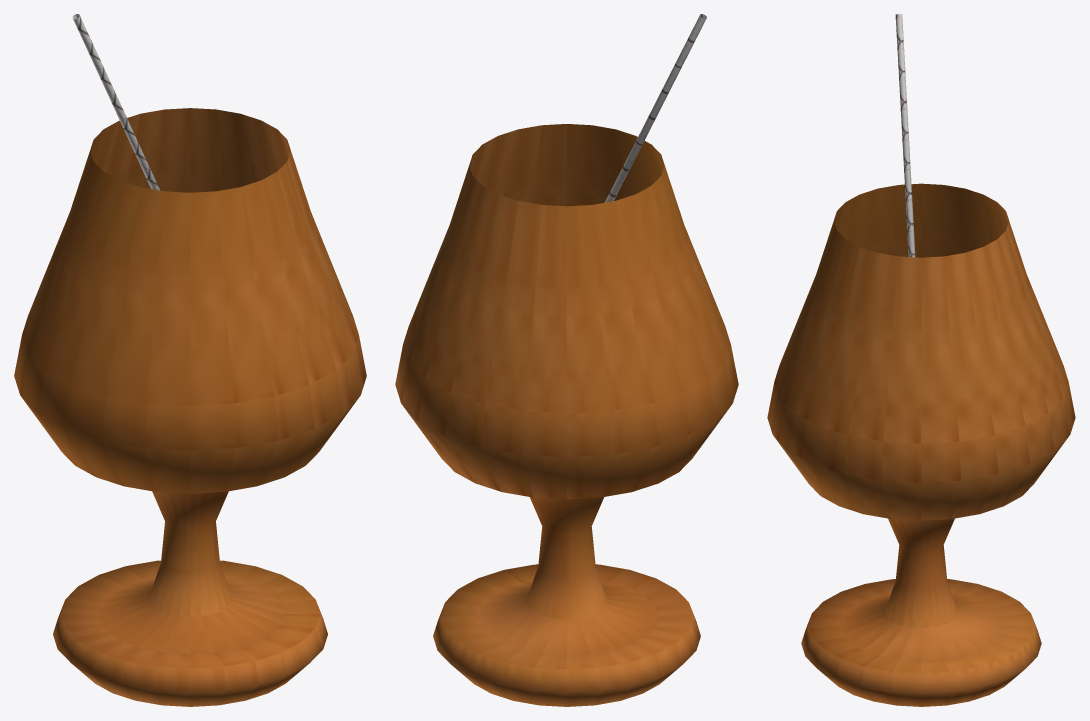
File: juice2.dae
3 renders of one model, left to right at view 1: azimuth 30°, elevation 25°; view 2: azimuth 150°, elevation 25°; view 3: azimuth 270°, elevation 25°, orthographic. The views are drawn at different scales.
Visible parts, largest first — view 1: SketchUp (×3); view 2: SketchUp (×3); view 3: SketchUp (×3).
Part boxes in pixels (left/top/right/bottom): SketchUp (×3): left=14, top=14, right=366, bottom=706; SketchUp (×3): left=395, top=14, right=738, bottom=706; SketchUp (×3): left=767, top=14, right=1075, bottom=706.
Bounding box in the file's own units: 4.74 × 4.74 × 10.17.
Materials: 6 (5 with a texture image).
